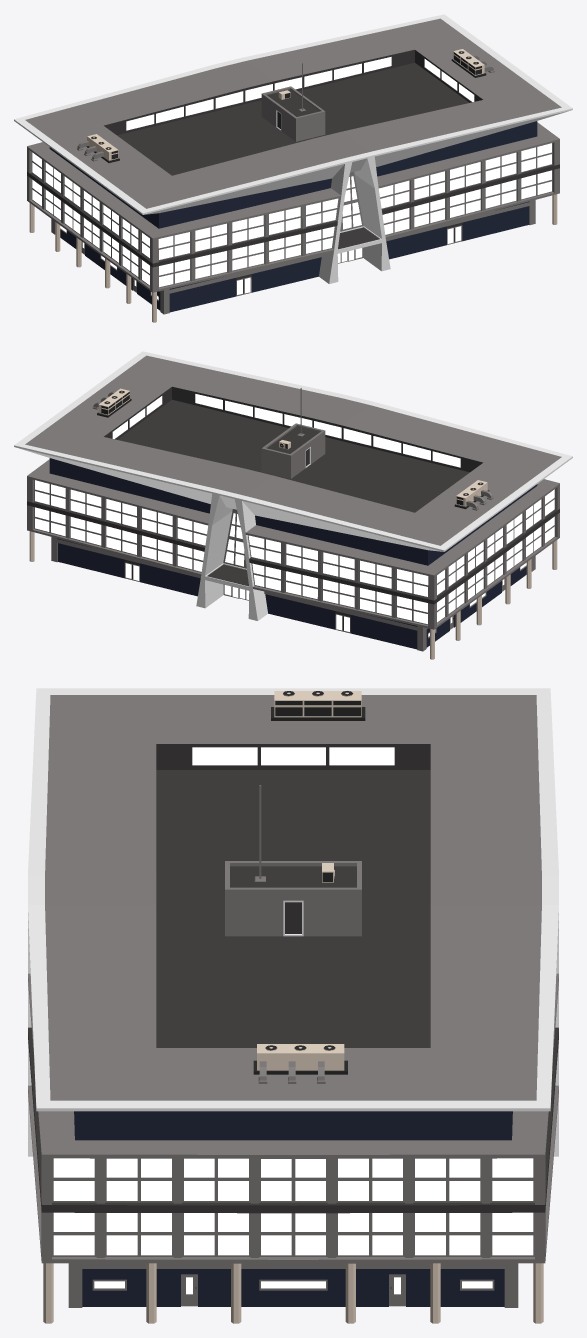
File: buildings-building-train-station.glb
3 renders of one model, top to bottom at view 1: azimuth 30°, elevation 25°; view 2: azimuth 150°, elevation 25°; view 3: azimuth 270°, elevation 25°, orthographic. The views are drawn at different scales.
Parts seen in each view (by area): view 1: building-train-station; view 2: building-train-station; view 3: building-train-station.
Part boxes in pixels (x1,y1,x2,y2): building-train-station: [14, 14, 572, 322]; building-train-station: [14, 351, 572, 659]; building-train-station: [28, 688, 558, 1323].
Bounding box in the file's own units: 58 × 22 × 31.
